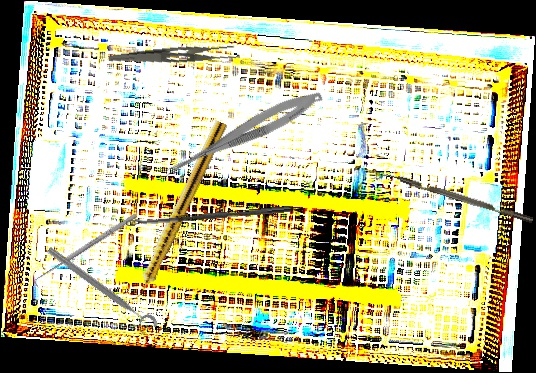Chopper: (376, 167, 534, 232)
Dressing Forceps: (108, 39, 241, 76)
Fixation Ring: (40, 243, 160, 339)
Handpiece: (128, 118, 228, 305)
Hook Surgical: (31, 211, 141, 289)
Micro Scissor: (158, 82, 327, 188)
Surgical Spoon: (126, 204, 293, 227)
